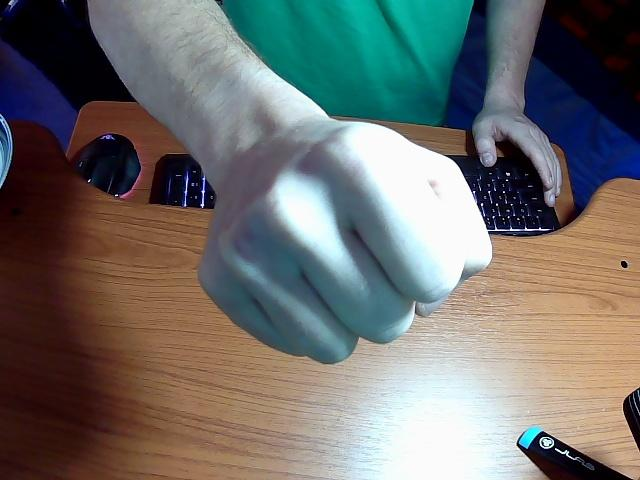rock: (140, 79, 491, 362)
